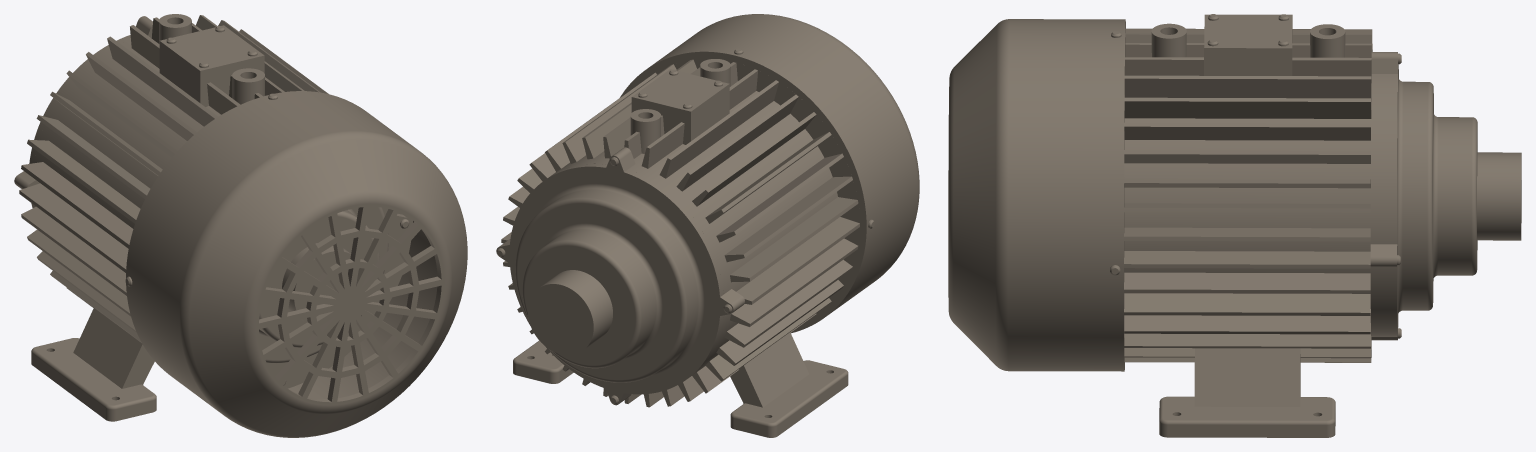
File: motor (1).glb
3 views of the same model, side by side, from view 1: azimuth 30°, elevation 25°; view 2: azimuth 150°, elevation 25°; view 3: azimuth 270°, elevation 25° (orthographic). The views are drawn at different scales.
Visible parts, largest first — view 1: shapr3d_export 10_0; view 2: shapr3d_export 10_0; view 3: shapr3d_export 10_0.
Part boxes in pixels (box(x1,y1,x2,y2)): shapr3d_export 10_0: box(14, 14, 467, 437); shapr3d_export 10_0: box(496, 14, 919, 437); shapr3d_export 10_0: box(948, 14, 1521, 437).
Size of the model in its own units: 0.2032 by 0.2091 by 0.3242.
